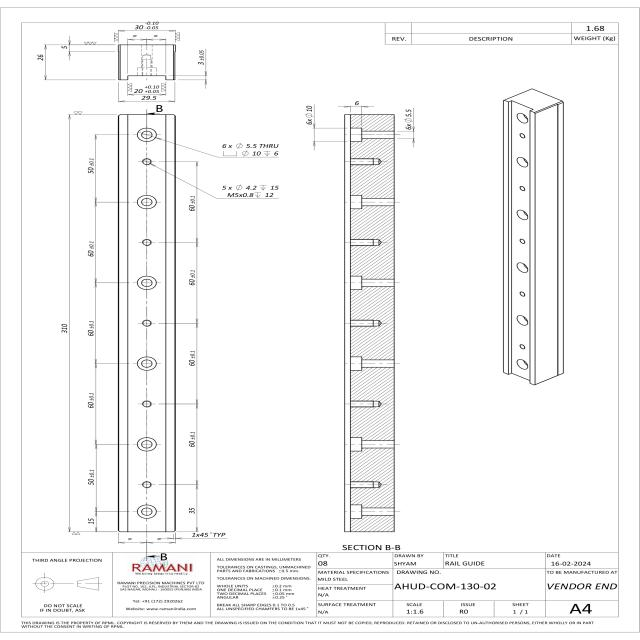dimension: (221, 184, 281, 198), (221, 142, 280, 156), (132, 20, 160, 31), (132, 85, 161, 94), (190, 531, 227, 538), (304, 105, 314, 125), (404, 109, 413, 130), (86, 240, 96, 258), (86, 468, 96, 486), (86, 320, 95, 337), (86, 392, 95, 409), (188, 430, 196, 448), (197, 49, 205, 66), (87, 158, 95, 175), (188, 350, 196, 367), (188, 269, 196, 286), (188, 195, 196, 212), (139, 95, 158, 102), (60, 323, 69, 334), (58, 44, 69, 50), (36, 53, 44, 61), (87, 518, 95, 526), (188, 507, 196, 515), (352, 100, 361, 106)
